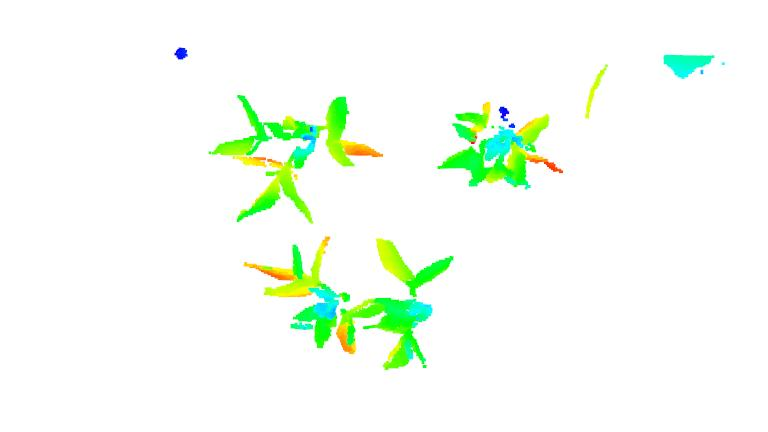mungbean: (199, 91, 386, 228), (243, 235, 367, 361), (355, 229, 454, 380), (429, 100, 568, 196)
